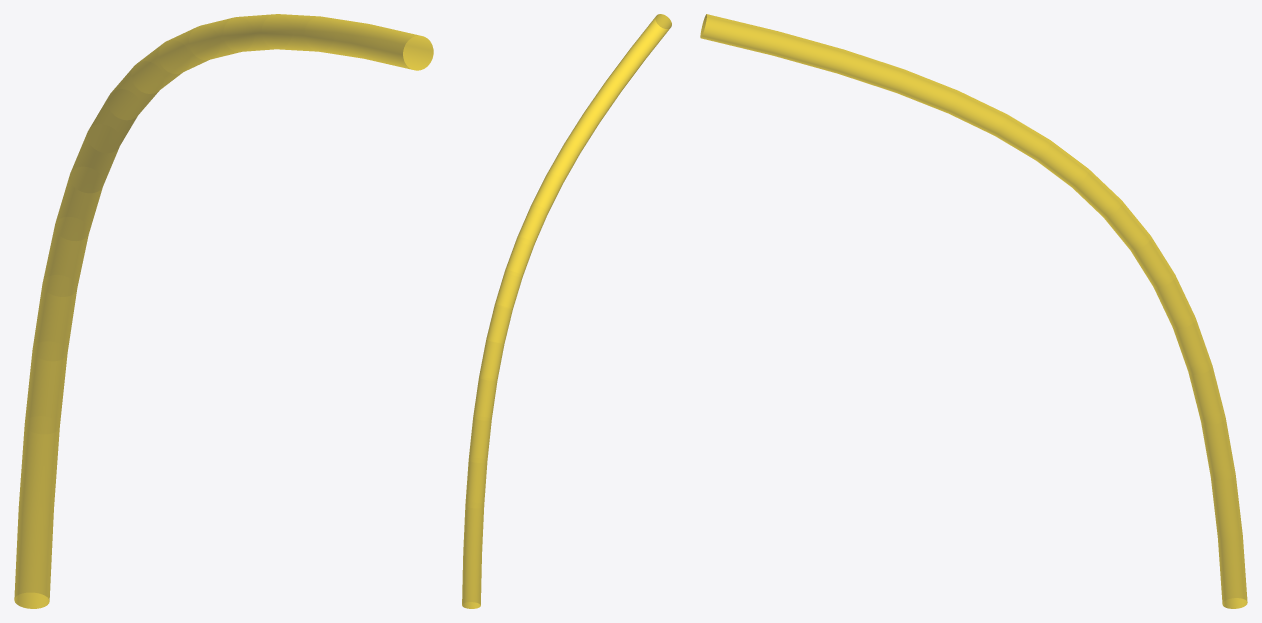
File: Event_17758602_track_156.fbx
3 views of the same model, side by side, from view 1: azimuth 30°, elevation 25°; view 2: azimuth 150°, elevation 25°; view 3: azimuth 270°, elevation 25° (orthographic). The views are drawn at different scales.
Parts seen in each view (by area): view 1: Model; view 2: Model; view 3: Model.
Boxes of the visible parts, <box> form: Model: <box>14,14,433,608</box>; Model: <box>462,14,671,608</box>; Model: <box>700,14,1247,608</box>.
Bounding box in the file's own units: 0.0571 × 1.04 × 0.8702.
